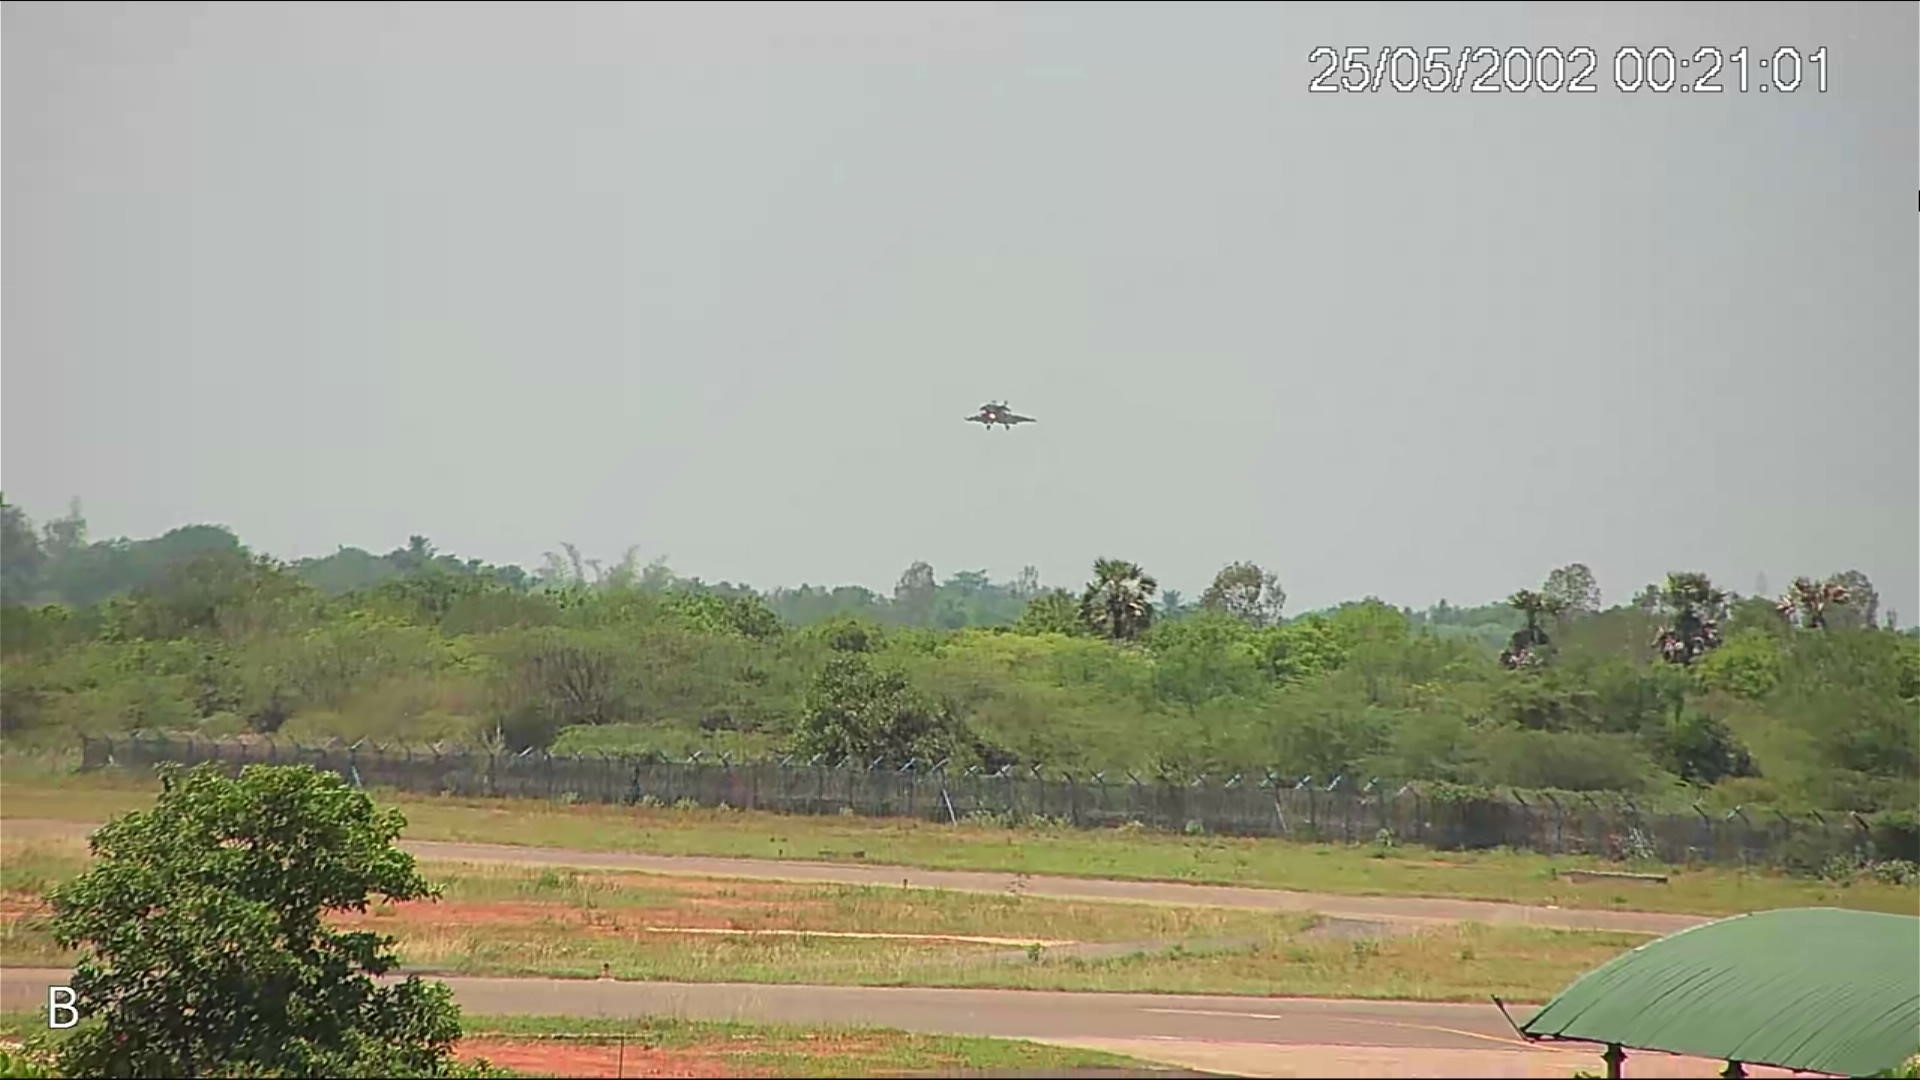SU_30: (963, 398, 1038, 431)
